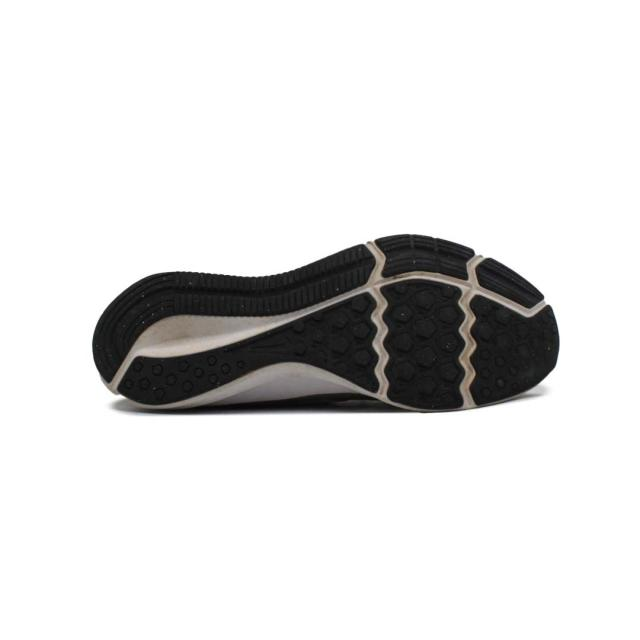outersole: (93, 233, 562, 415)
